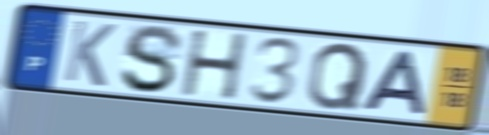3: (248, 35, 304, 106)
A: (360, 48, 429, 118)
H: (180, 29, 251, 102)
K: (60, 17, 119, 90)
Q: (304, 41, 371, 112)
S: (118, 22, 186, 96)
